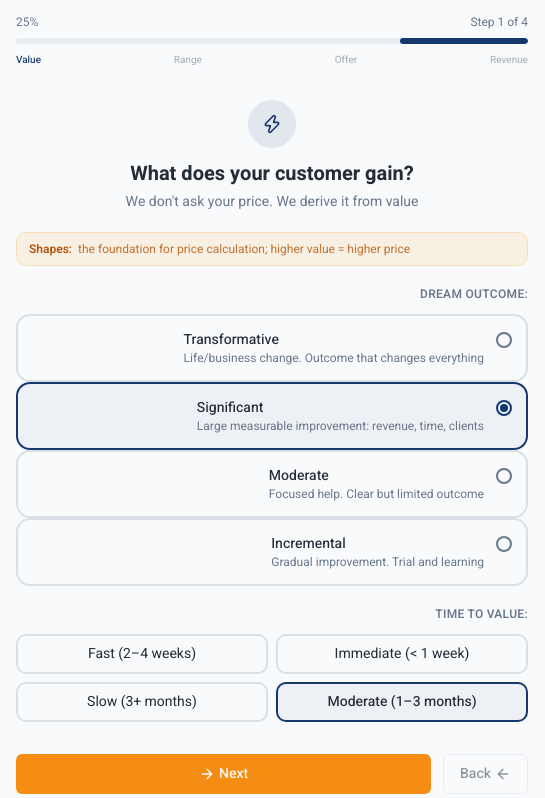
Test case: PricingWizard › shows PSM content on step 2
Click the button "Next": (224, 774) [16,754,431,794]
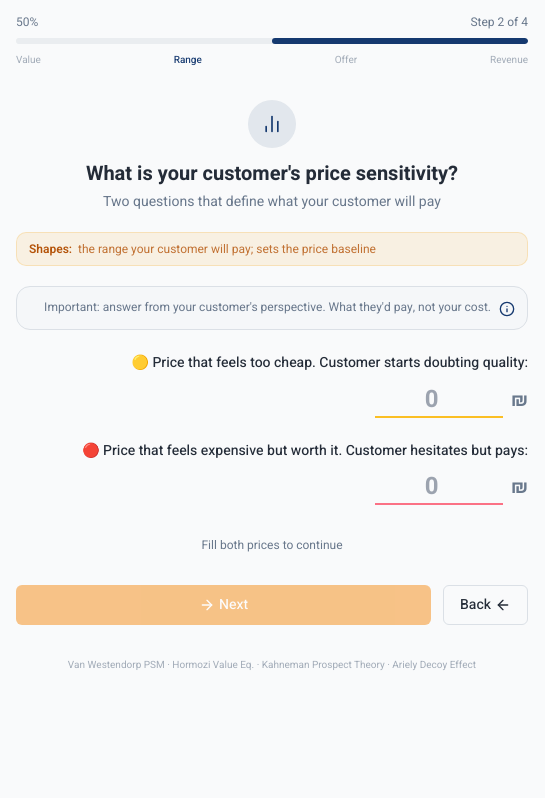
expect the heading "What is your customer's price sensitivity?" is shown: met, box [86,159,458,188]
